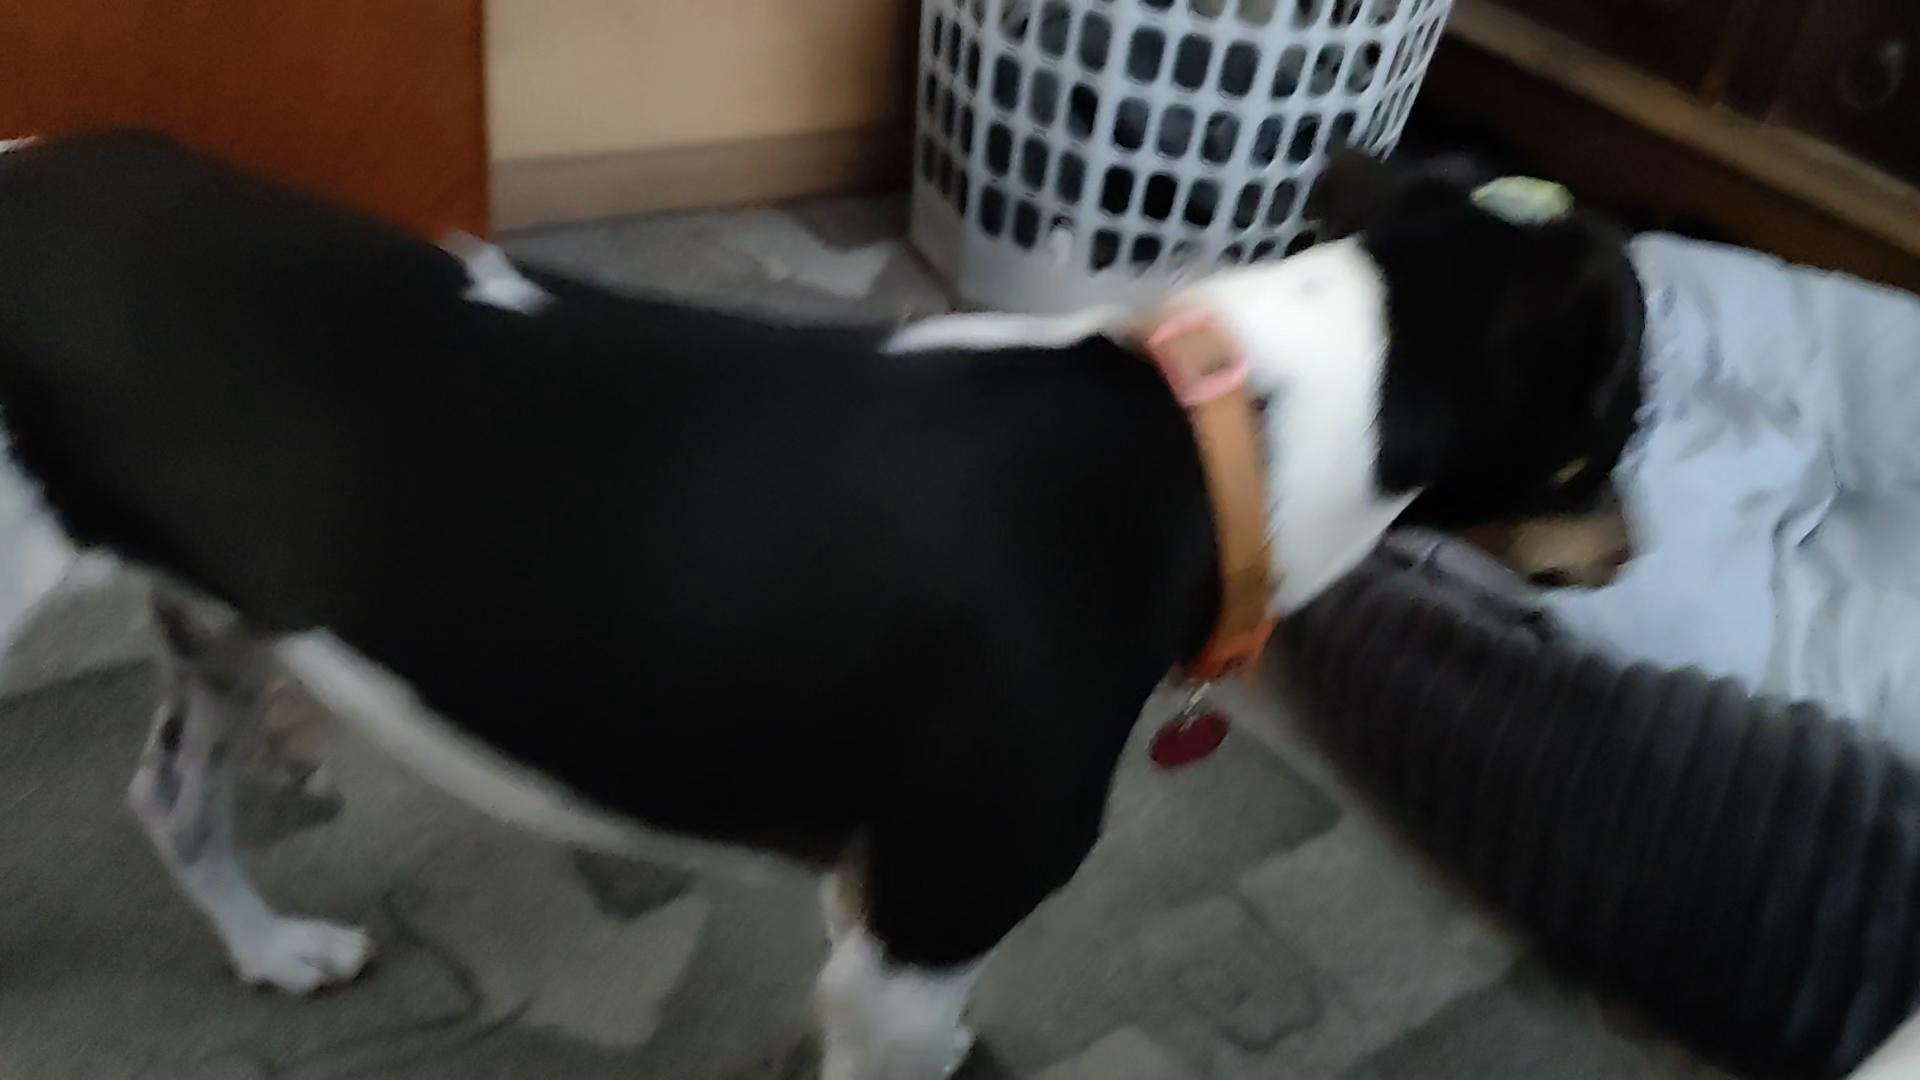Dog: (0, 90, 1698, 1079)
